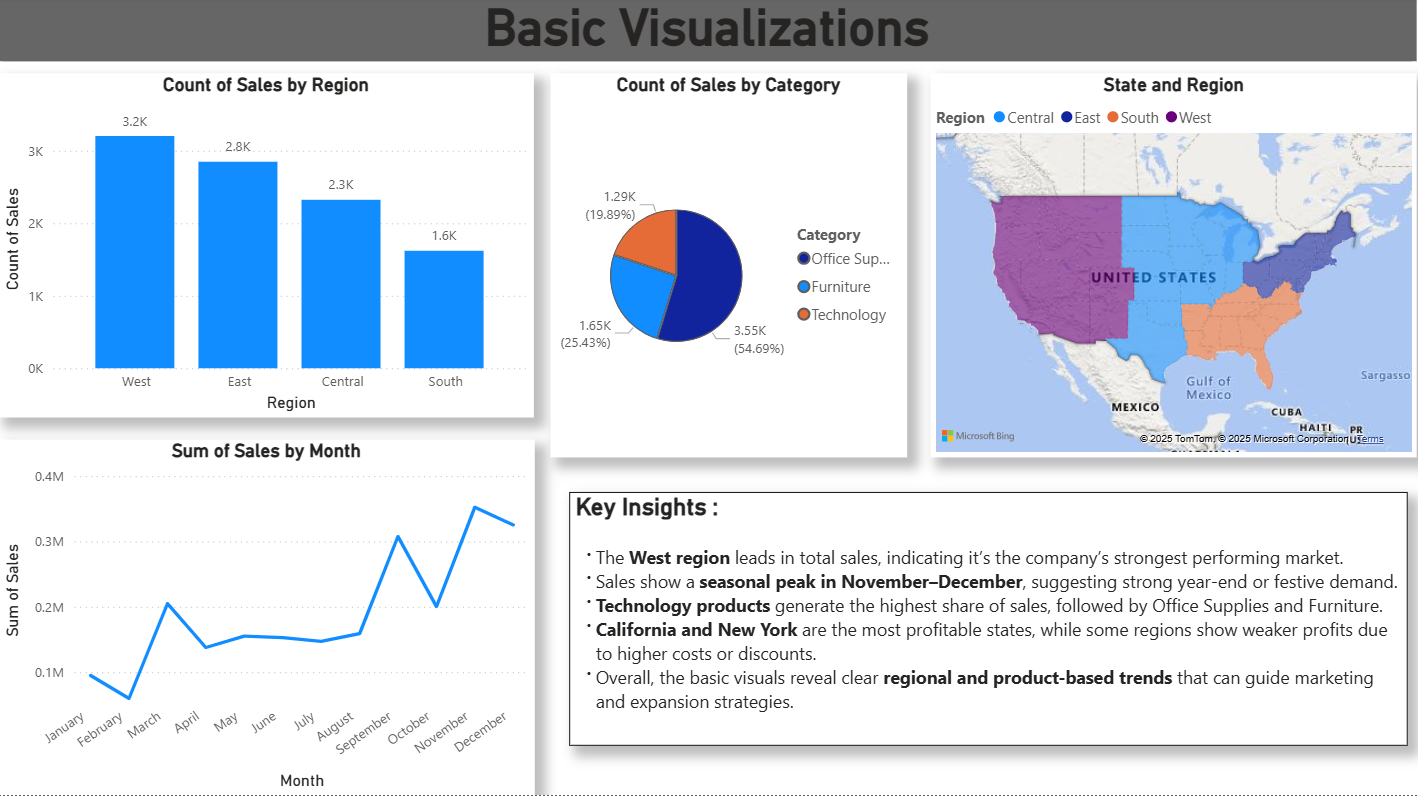

This screenshot's page, from the dashboard's own definition file:
{"tool":"powerbi","page":{"name":"Basic Visualizations","canvas":[1280,720],"ordinal":0},"visuals":[{"type":"clusteredColumnChart","fields":{"Category":["Orders.Region"],"Y":["CountNonNull(Orders.Sales)"]},"box":[0,68.3,483.3,310],"z":0},{"type":"lineChart","fields":{"Category":["Orders.Order Date.Variation.Date Hierarchy.Month"],"Y":["Sum(Orders.Sales)"]},"box":[0,398.8,483.8,321.2],"z":1000},{"type":"pieChart","fields":{"Category":["Orders.Category"],"Y":["Count(Orders.Sales)"]},"box":[498.8,68.8,321.2,346.2],"z":2000},{"type":"filledMap","fields":{"Category":["Orders.State"],"Series":["Orders.Region"]},"box":[841.2,68.8,438.8,346.2],"z":3000},{"type":"textbox","title":"Basic Visualizations","box":[0,1.1,1279.3,58.6],"z":4000},{"type":"textbox","title":"Key Insights :","box":[515,446.2,756.2,228.8],"z":5000}]}

Visuals, with their boxes in screenshot pixels (x1, y1, x2, y2), scaled from the page's 1280x720 canvas onto the 1418x796 screenshot:
clusteredColumnChart - Orders.Region x CountNonNull(Orders.Sales): [x1=0, y1=76, x2=535, y2=418]
lineChart - Orders.Order Date.Variation.Date Hierarchy.Month x Sum(Orders.Sales): [x1=0, y1=441, x2=536, y2=795]
pieChart - Orders.Category x Count(Orders.Sales): [x1=553, y1=76, x2=908, y2=459]
filledMap - Orders.State x Orders.Region: [x1=932, y1=76, x2=1417, y2=459]
"Basic Visualizations" textbox: [x1=0, y1=1, x2=1417, y2=66]
"Key Insights :" textbox: [x1=571, y1=493, x2=1408, y2=746]
